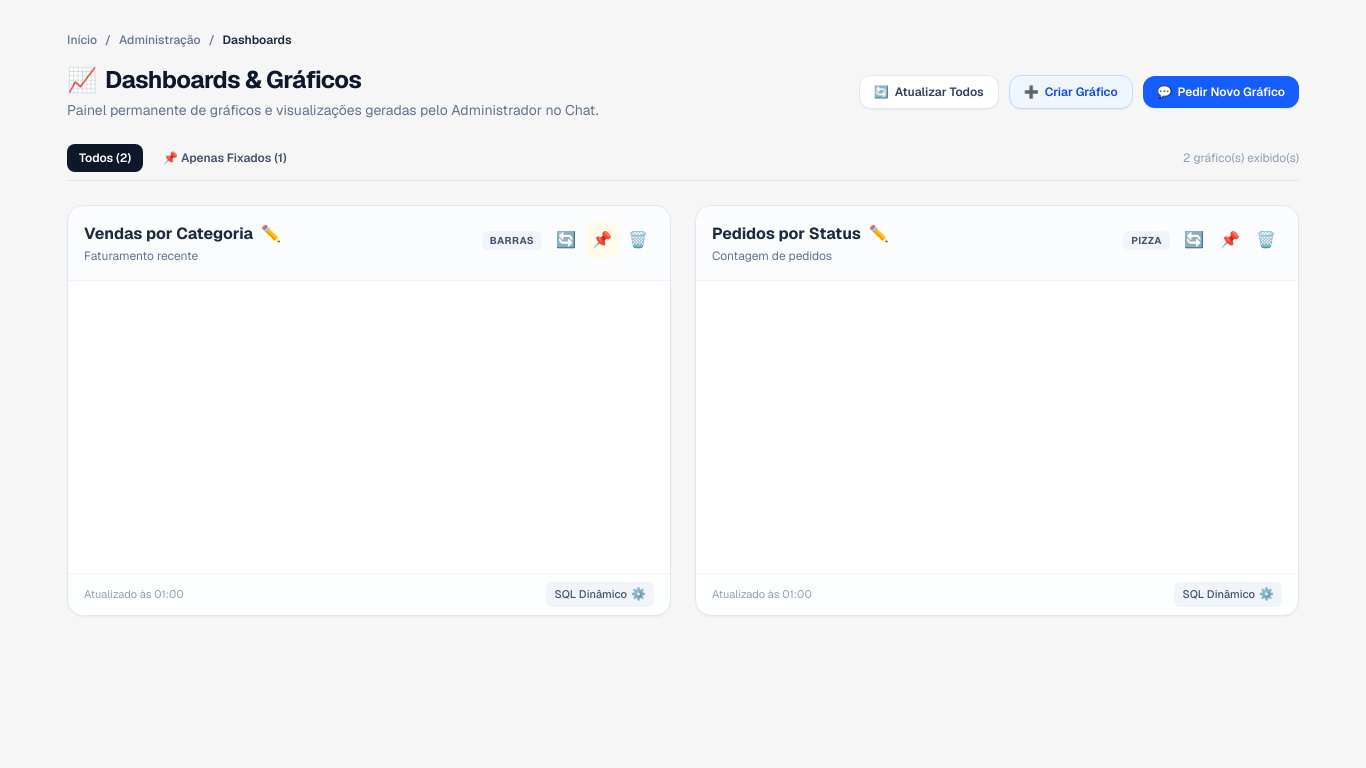
Test: AdminDashboardsPage › filtra apenas gráficos fixados ao selecionar a aba correspondente
expect the heading "Vendas por Categoria" is shown: met, box [84,222,253,246]
Click the button "📌 Apenas Fixados (1)": (225, 158) [151,144,299,172]
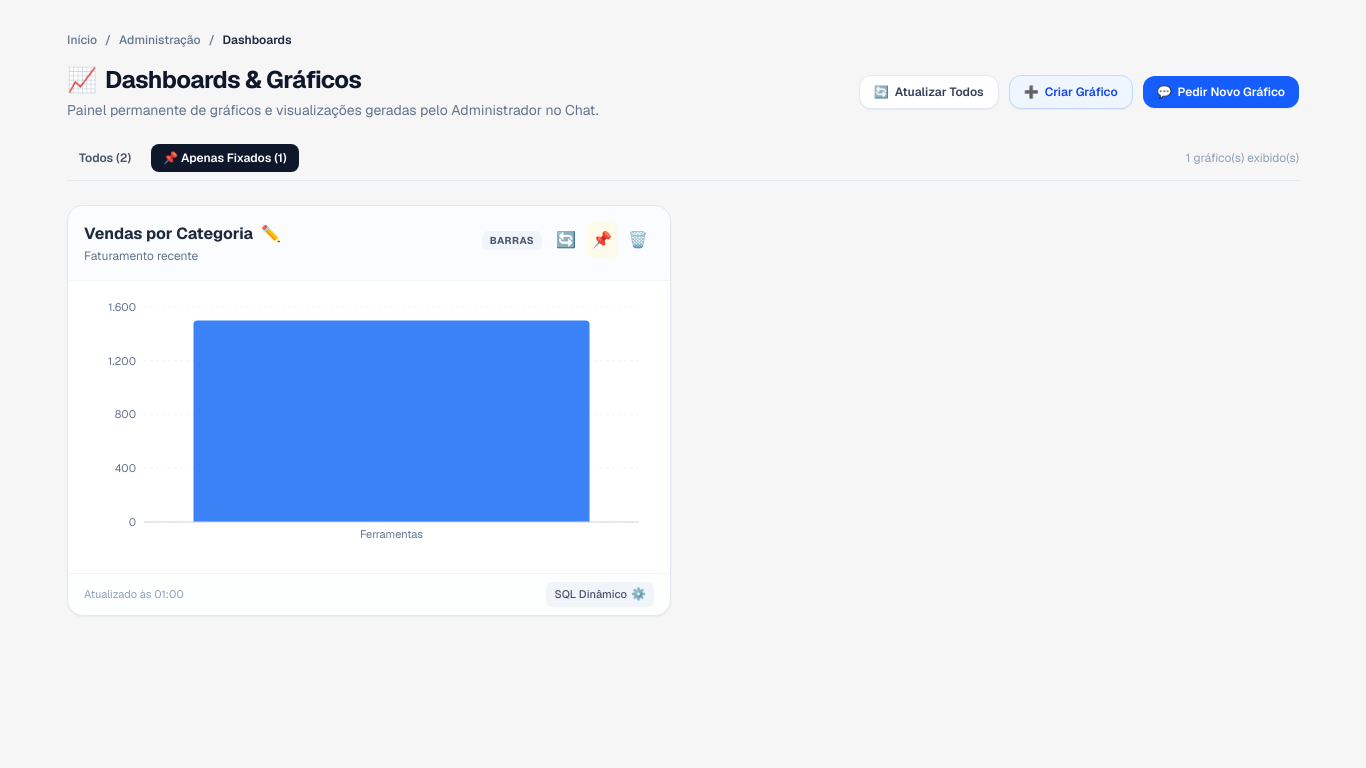
expect the heading "Vendas por Categoria" is shown: met, box [84,222,253,246]
expect the heading "Pedidos por Status" is gone: met
